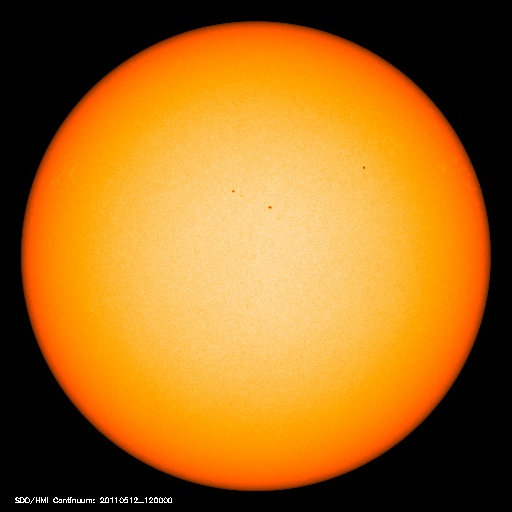sunspot: (222, 179, 280, 213), (346, 150, 377, 180)
